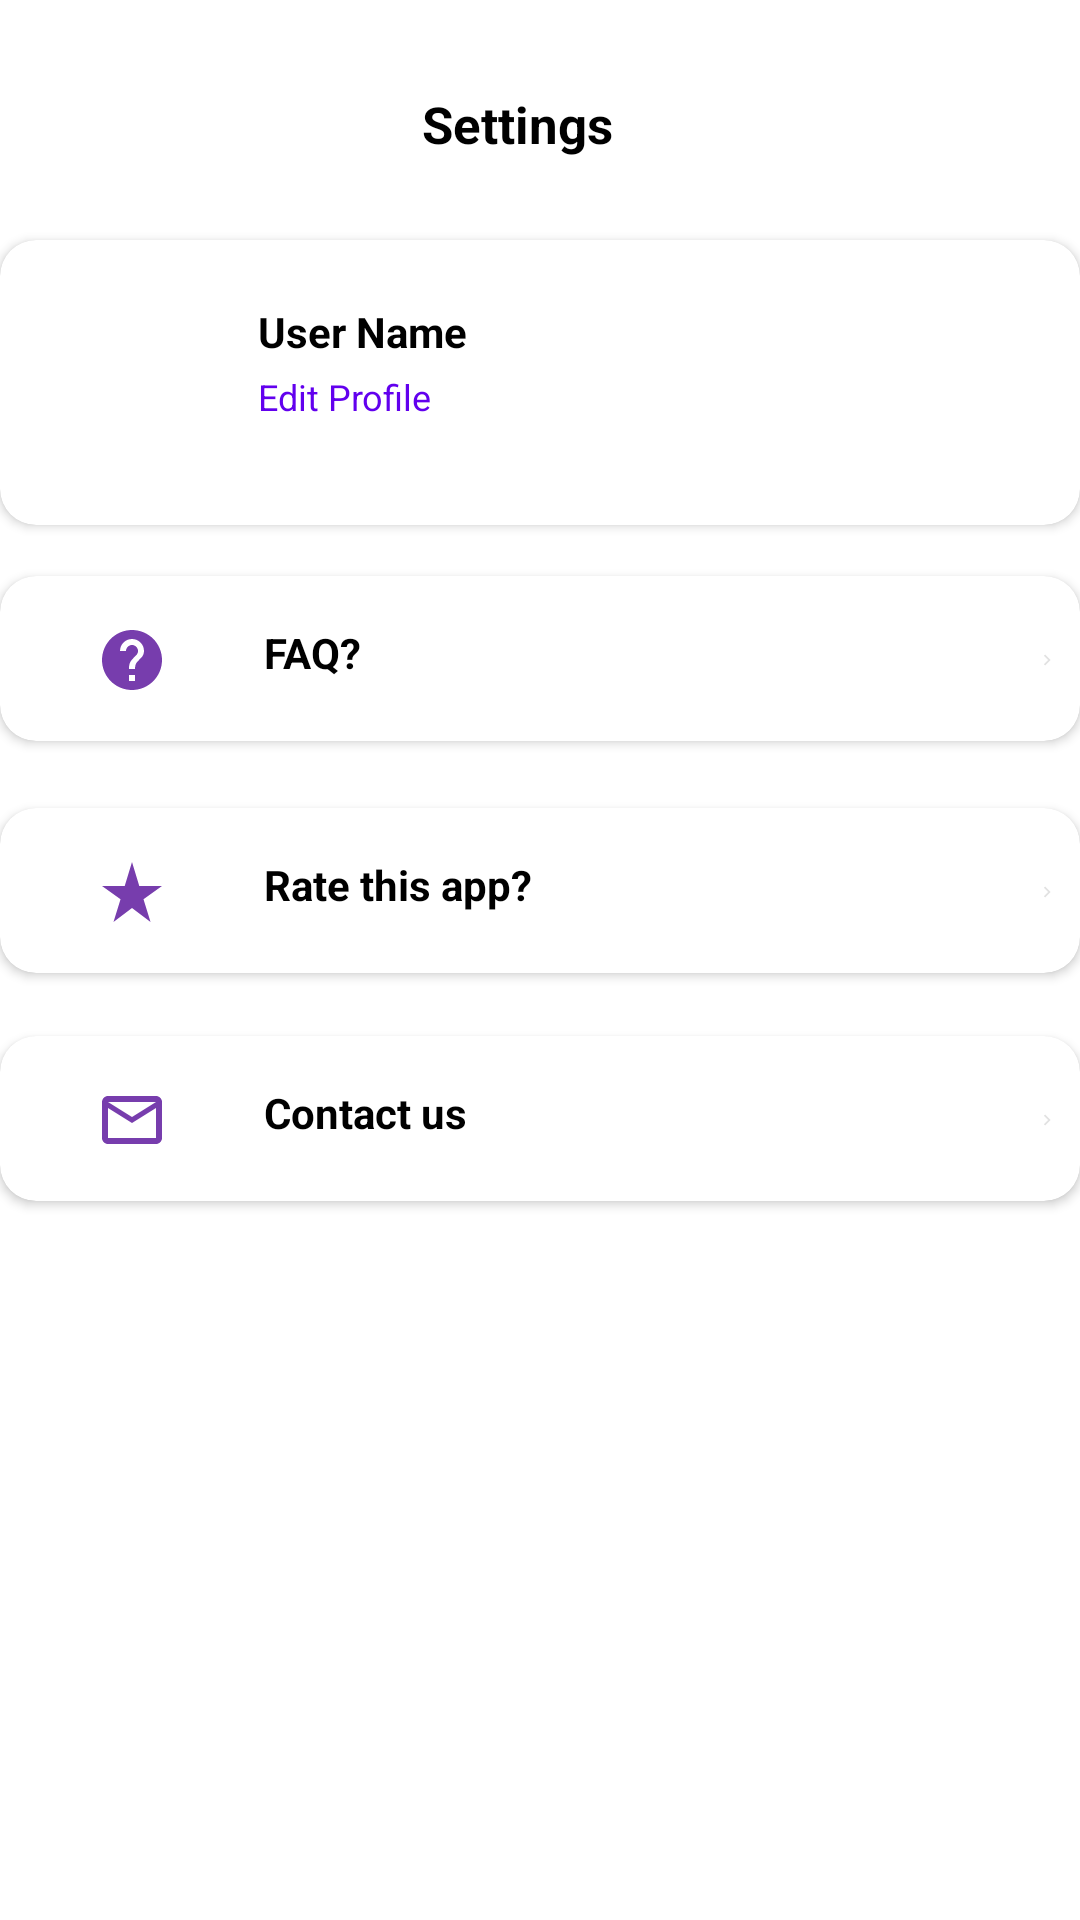

Where to tap for icons on this 1080 × 1920 app screen, as point (x, y):
help: point (132, 660)
mail: point (132, 1120)
star rate: point (132, 892)
